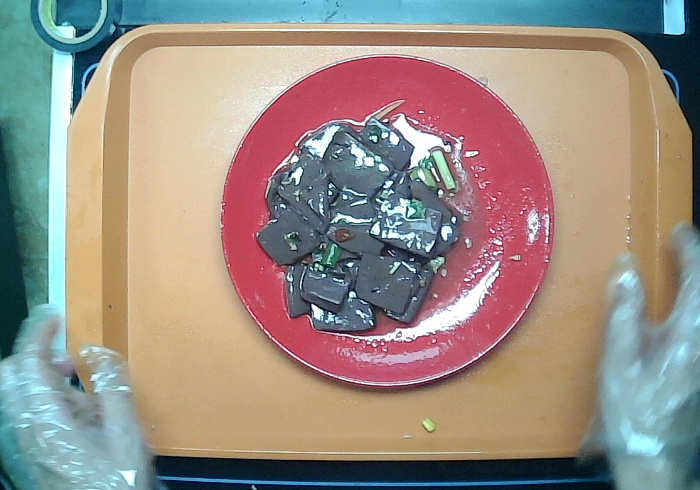HZYJPL-Hong_Se_Yuan_Pan: (213, 44, 561, 400)
